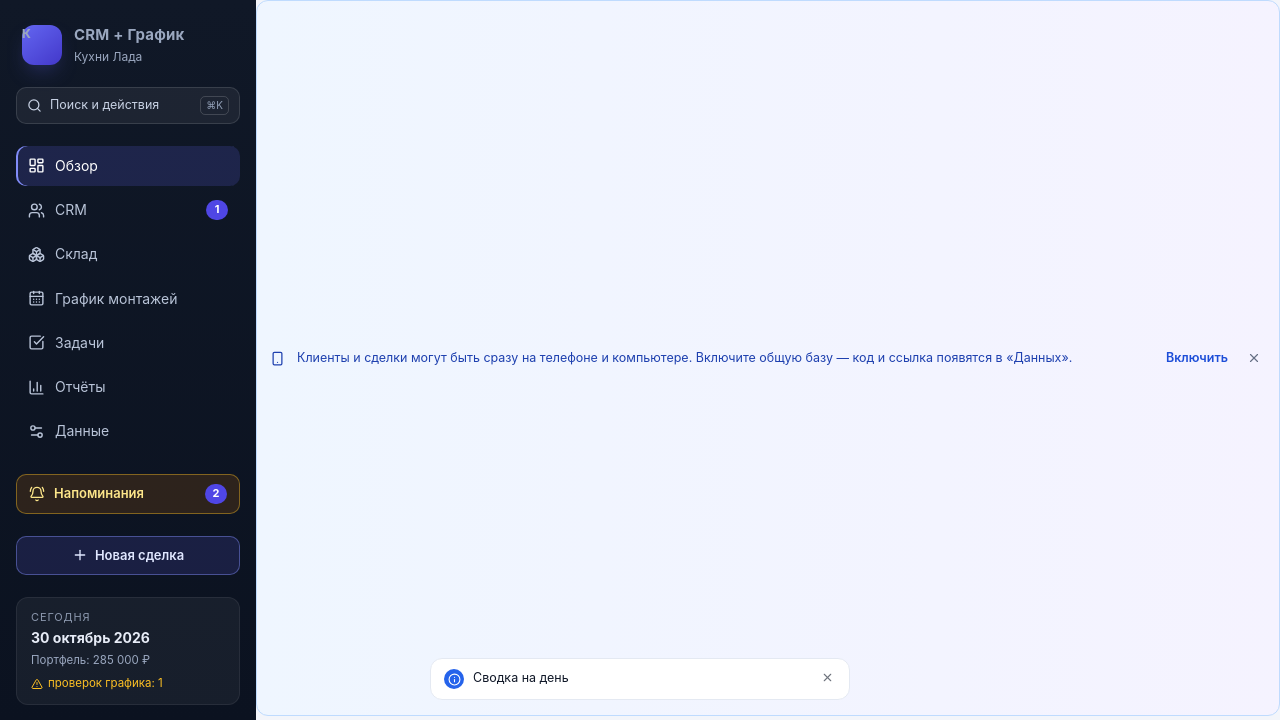
Test: касание клиента одним нажатием › журнал не мешает открыть сделку кликом по строке
This screenshot has width=1280, height=720.
Click the button "CRM 1".
click(128, 210)  # box [16,190,240,230]
(page scrolled)
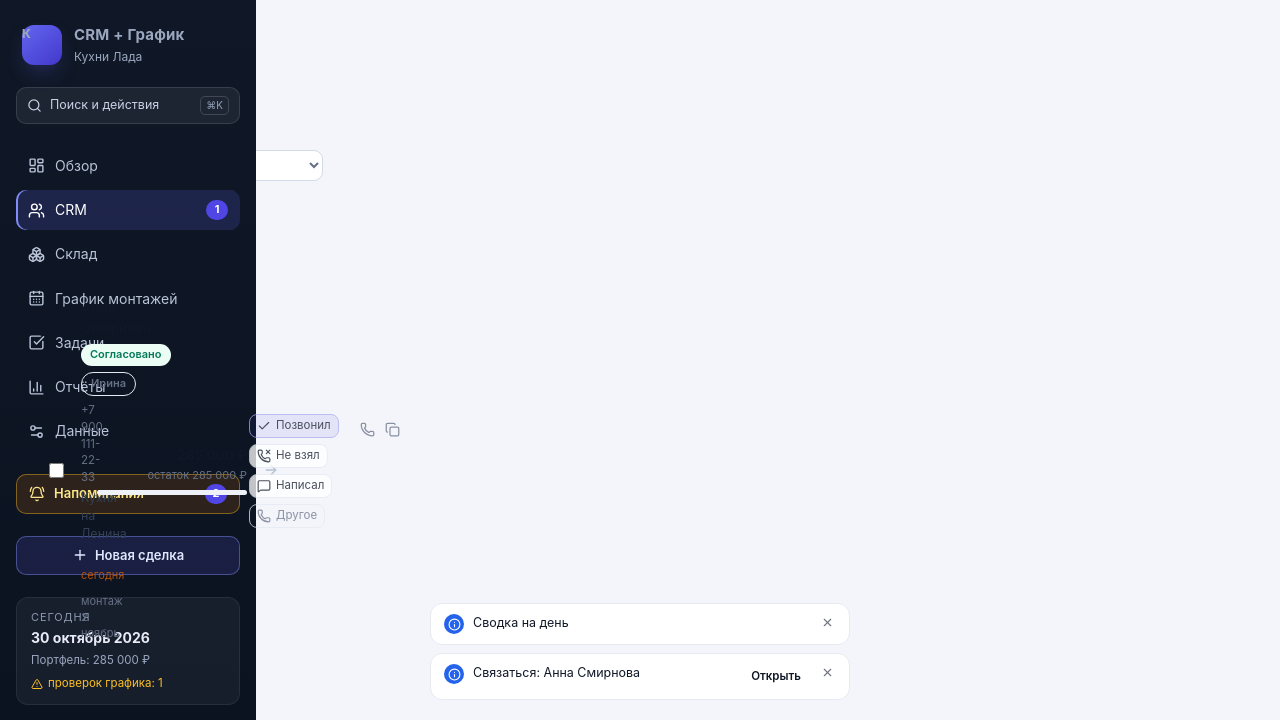
Click the button named "Анна Смирнова".
click(160, 471)  # box [75,288,245,653]
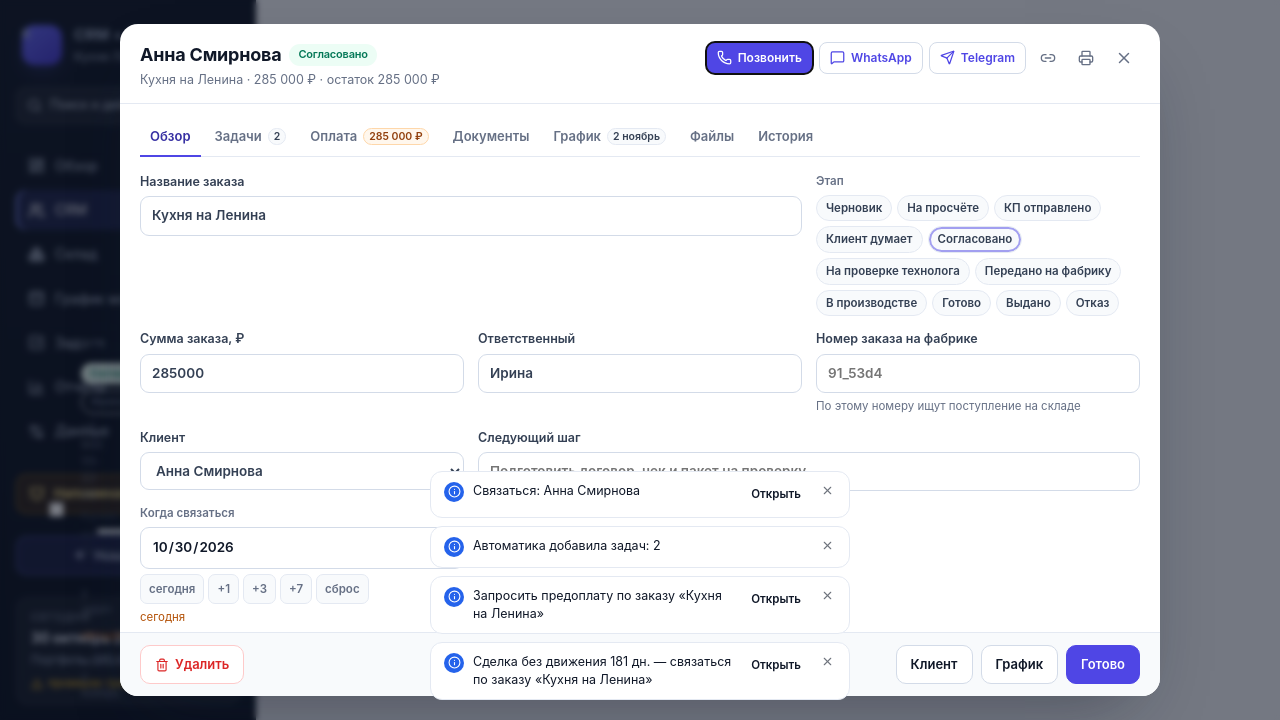
Now the dialog is shown
